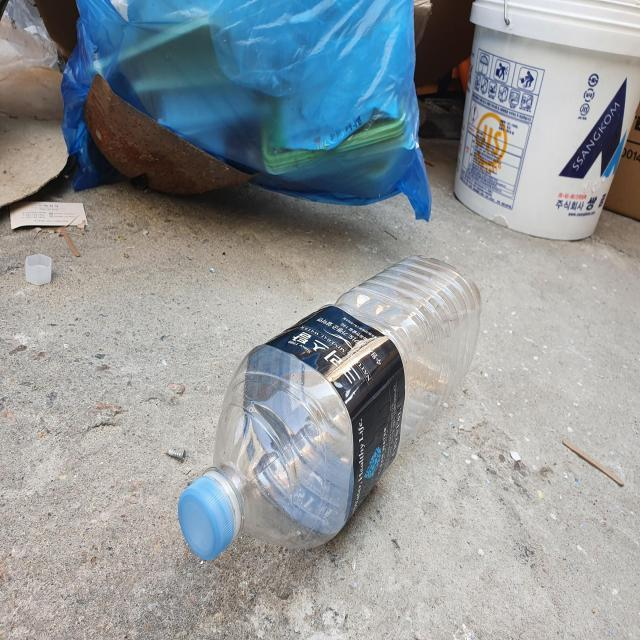bottle: (178, 254, 482, 562)
